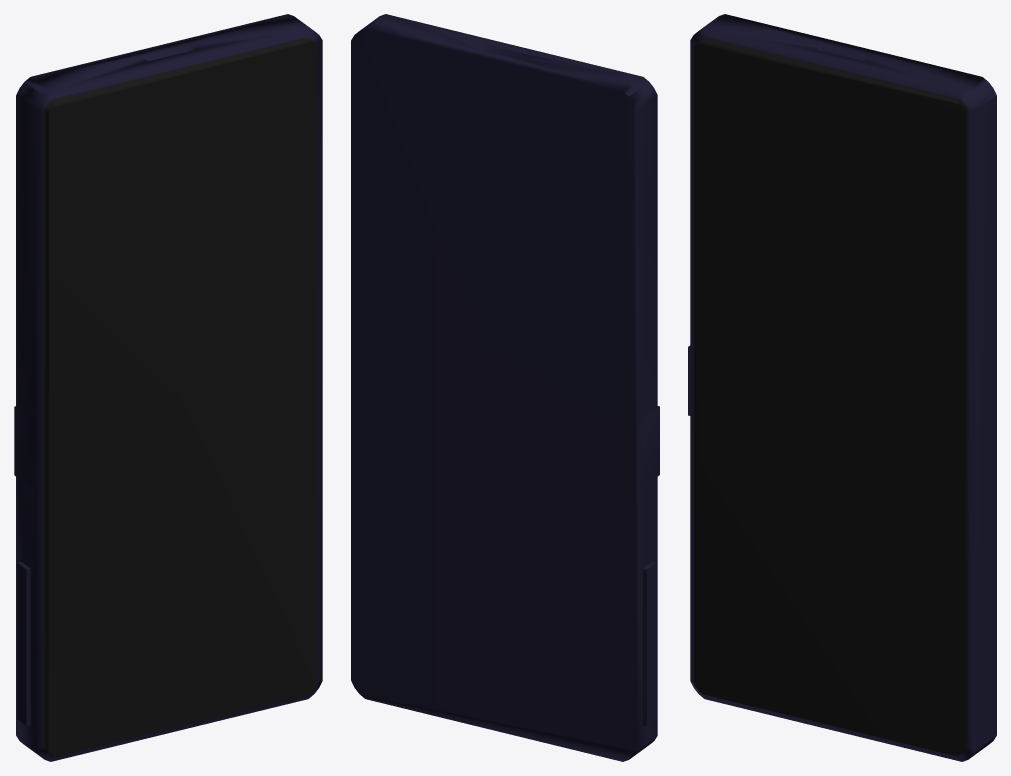
File: smartphone.glb
3 renders of one model, left to right at view 1: azimuth 30°, elevation 25°; view 2: azimuth 150°, elevation 25°; view 3: azimuth 330°, elevation 25°, orthographic.
Parts seen in each view (by area): view 1: smartphone; view 2: smartphone; view 3: smartphone.
Boxes of the visible parts, x1,y1,x2,y2 form: smartphone: [14, 14, 322, 761]; smartphone: [351, 14, 659, 761]; smartphone: [688, 14, 996, 761].
Bounding box in the file's own units: 0.068 × 0.15 × 0.0098.
